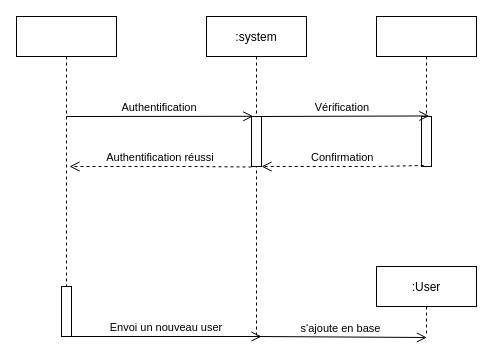
This 493x358 diagram has some shape labels left out. The shapes that lost their labels are listed below. From the top down, each one's box as (x1, y1, x2, y2) in pixels, then its label:
(376, 16, 476, 166): :customer
(16, 16, 116, 336): Actor Customer
